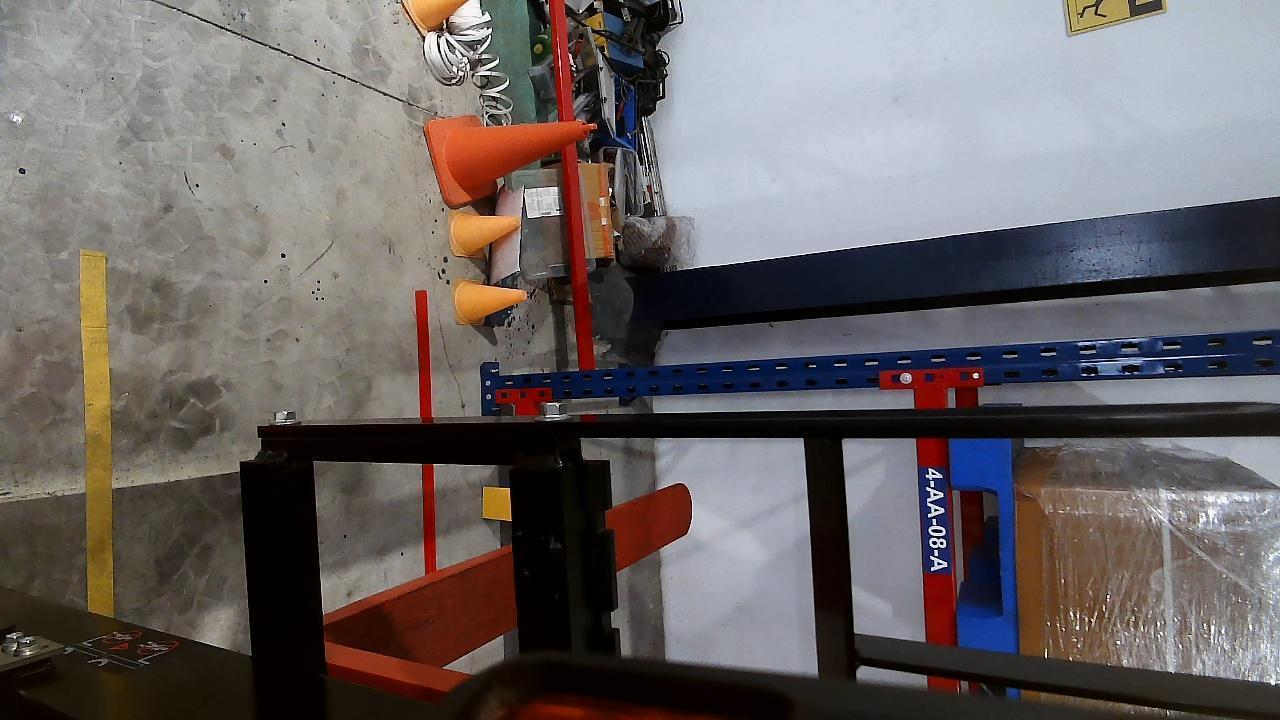red_line: (412, 290, 438, 570)
yellow_line: (79, 250, 113, 618)
